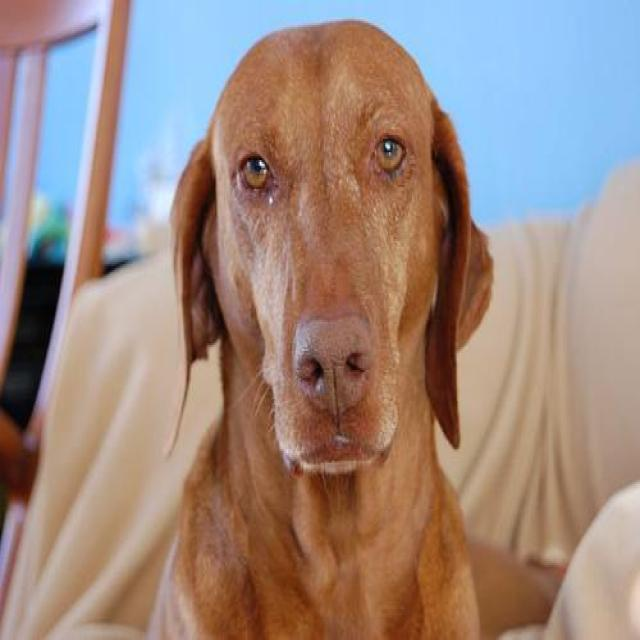vizsla: (141, 12, 568, 638)
